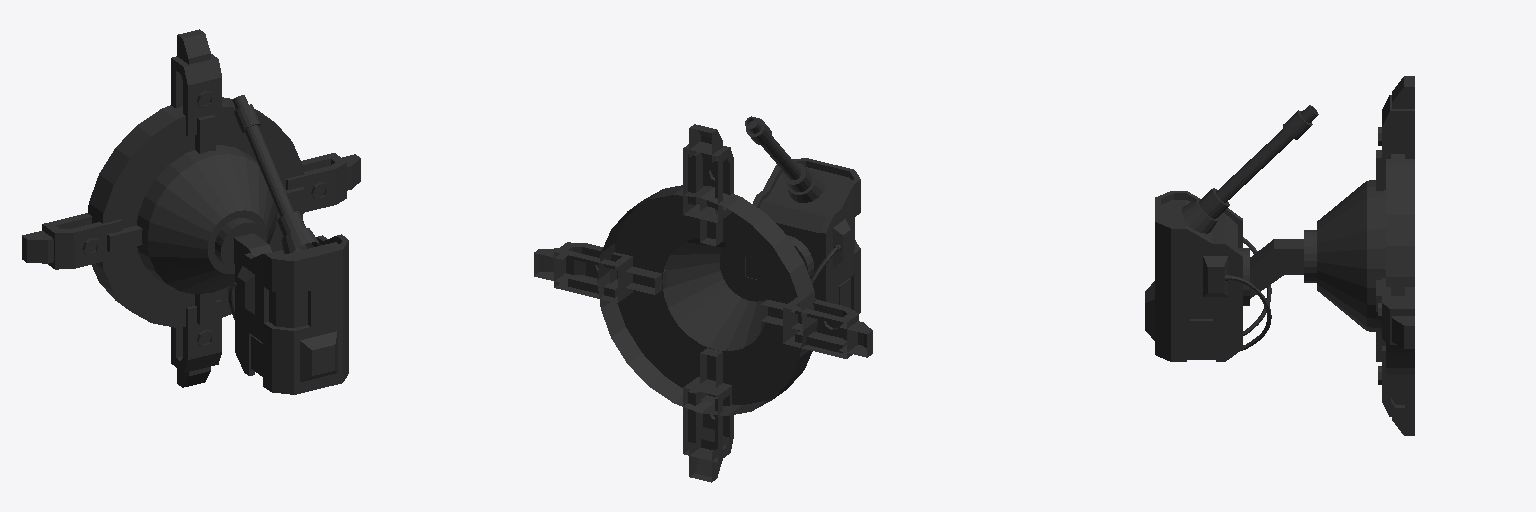
File: turret02.obj
3 renders of one model, left to right at view 1: azimuth 30°, elevation 25°; view 2: azimuth 150°, elevation 25°; view 3: azimuth 270°, elevation 25°, orthographic.
Visible parts, largest first — view 1: Legs_low_Куб.001, turret, Top_Base_low_Цилиндр.003, Cover_low_Куб.002, Body_low_Куб.003, Decor_002_low_Куб.016, Gear_Bottom_low_Цилиндр.005, Decor_000_low_Куб.013, Neck_low_Цилиндр.004; view 2: turret, Legs_low_Куб.001, Top_Base_low_Цилиндр.003, Cover_low_Куб.002, Body_low_Куб.003, Decor_000_low_Куб.013; view 3: Cover_low_Куб.002, Top_Base_low_Цилиндр.003, Legs_low_Куб.001, turret, Neck_low_Цилиндр.004, Body_low_Куб.003, Decor_000_low_Куб.013, Decor_001_low_Куб.017, Cable_low_КриваяБезье.004, Gear_Bottom_low_Цилиндр.005.
Boxes of the visible parts, <box> form: Legs_low_Куб.001: <box>22,29,360,387</box>; turret: <box>88,97,303,327</box>; Top_Base_low_Цилиндр.003: <box>137,145,277,293</box>; Cover_low_Куб.002: <box>235,234,348,394</box>; Body_low_Куб.003: <box>256,242,339,327</box>; Decor_002_low_Куб.016: <box>300,331,337,381</box>; Gear_Bottom_low_Цилиндр.005: <box>215,218,266,270</box>; Decor_000_low_Куб.013: <box>237,266,254,314</box>; Neck_low_Цилиндр.004: <box>234,233,271,263</box>; turret: <box>597,185,817,415</box>; Legs_low_Куб.001: <box>534,124,872,482</box>; Top_Base_low_Цилиндр.003: <box>663,238,766,350</box>; Cover_low_Куб.002: <box>753,158,860,313</box>; Body_low_Куб.003: <box>759,167,854,299</box>; Decor_000_low_Куб.013: <box>833,219,850,267</box>; Cover_low_Куб.002: <box>1155,191,1242,361</box>; Top_Base_low_Цилиндр.003: <box>1317,180,1385,332</box>; Legs_low_Куб.001: <box>1376,76,1414,435</box>; turret: <box>1386,154,1414,374</box>; Neck_low_Цилиндр.004: <box>1250,239,1303,298</box>; Body_low_Куб.003: <box>1161,200,1237,352</box>; Decor_000_low_Куб.013: <box>1203,256,1227,296</box>; Decor_001_low_Куб.017: <box>1190,319,1212,353</box>; Cable_low_КриваяБезье.004: <box>1231,237,1271,350</box>; Gear_Bottom_low_Цилиндр.005: <box>1304,230,1316,282</box>.
Size of the model in its own units: 3.24 by 3.24 by 2.28.